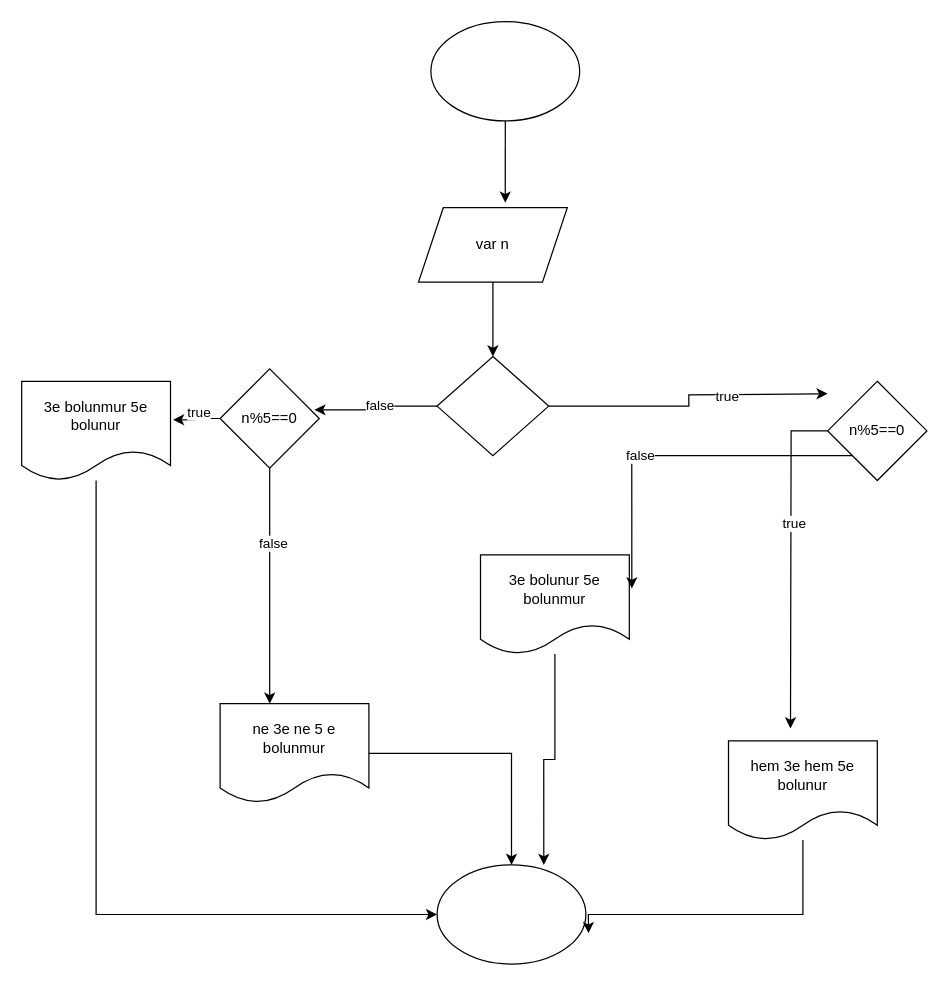
This 949x986 diagram has some shape labels left out. Each missing label, with the centre of its shape:
"end" belongs at point 511,914.
"n%3==0" belongs at point 492,405.
"start" belongs at point 505,70.
